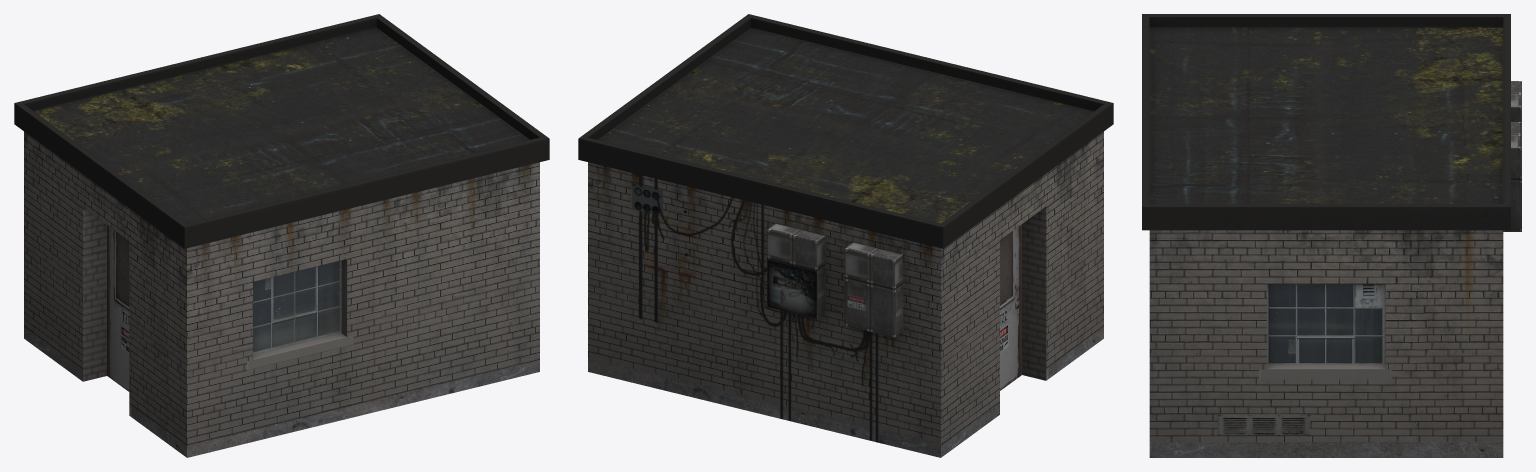
Rendered from utility_building_2.glb.
3 views of the same model, side by side, from view 1: azimuth 30°, elevation 25°; view 2: azimuth 150°, elevation 25°; view 3: azimuth 270°, elevation 25° (orthographic). The views are drawn at different scales.
Parts seen in each view (by area): view 1: Box001; view 2: Box001; view 3: Box001.
Part boxes in pixels (box(x1,y1,x2,y2)): Box001: box(14, 14, 549, 457); Box001: box(578, 14, 1113, 457); Box001: box(1142, 14, 1521, 457).
Size of the model in its own units: 4.86 by 2.98 by 4.04.
1 material, 1 textured.
